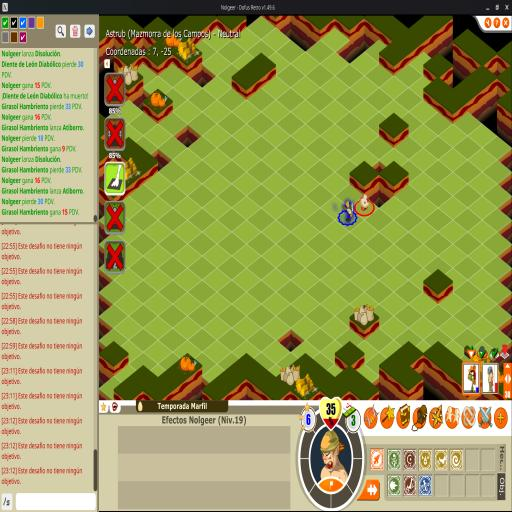Enemigos: (342, 198, 354, 220)
Personaje: (359, 193, 370, 211)
